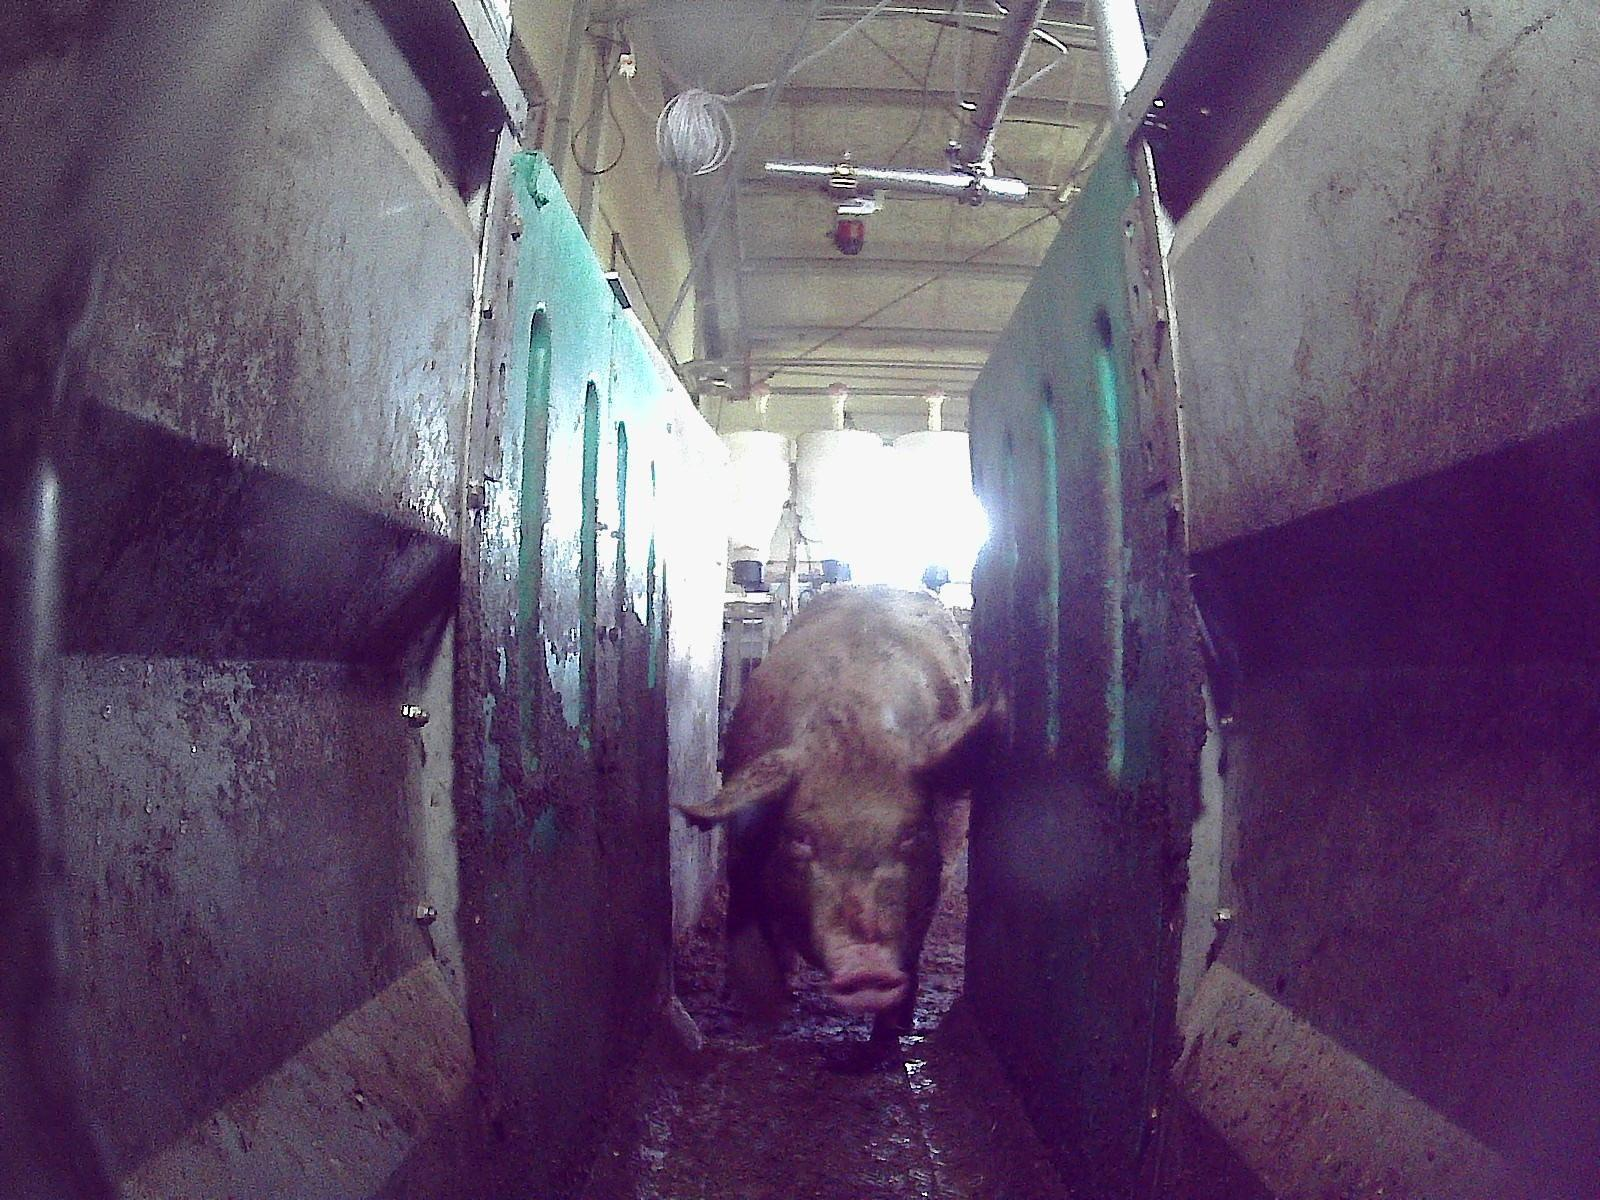Face: (748, 724, 944, 1011)
